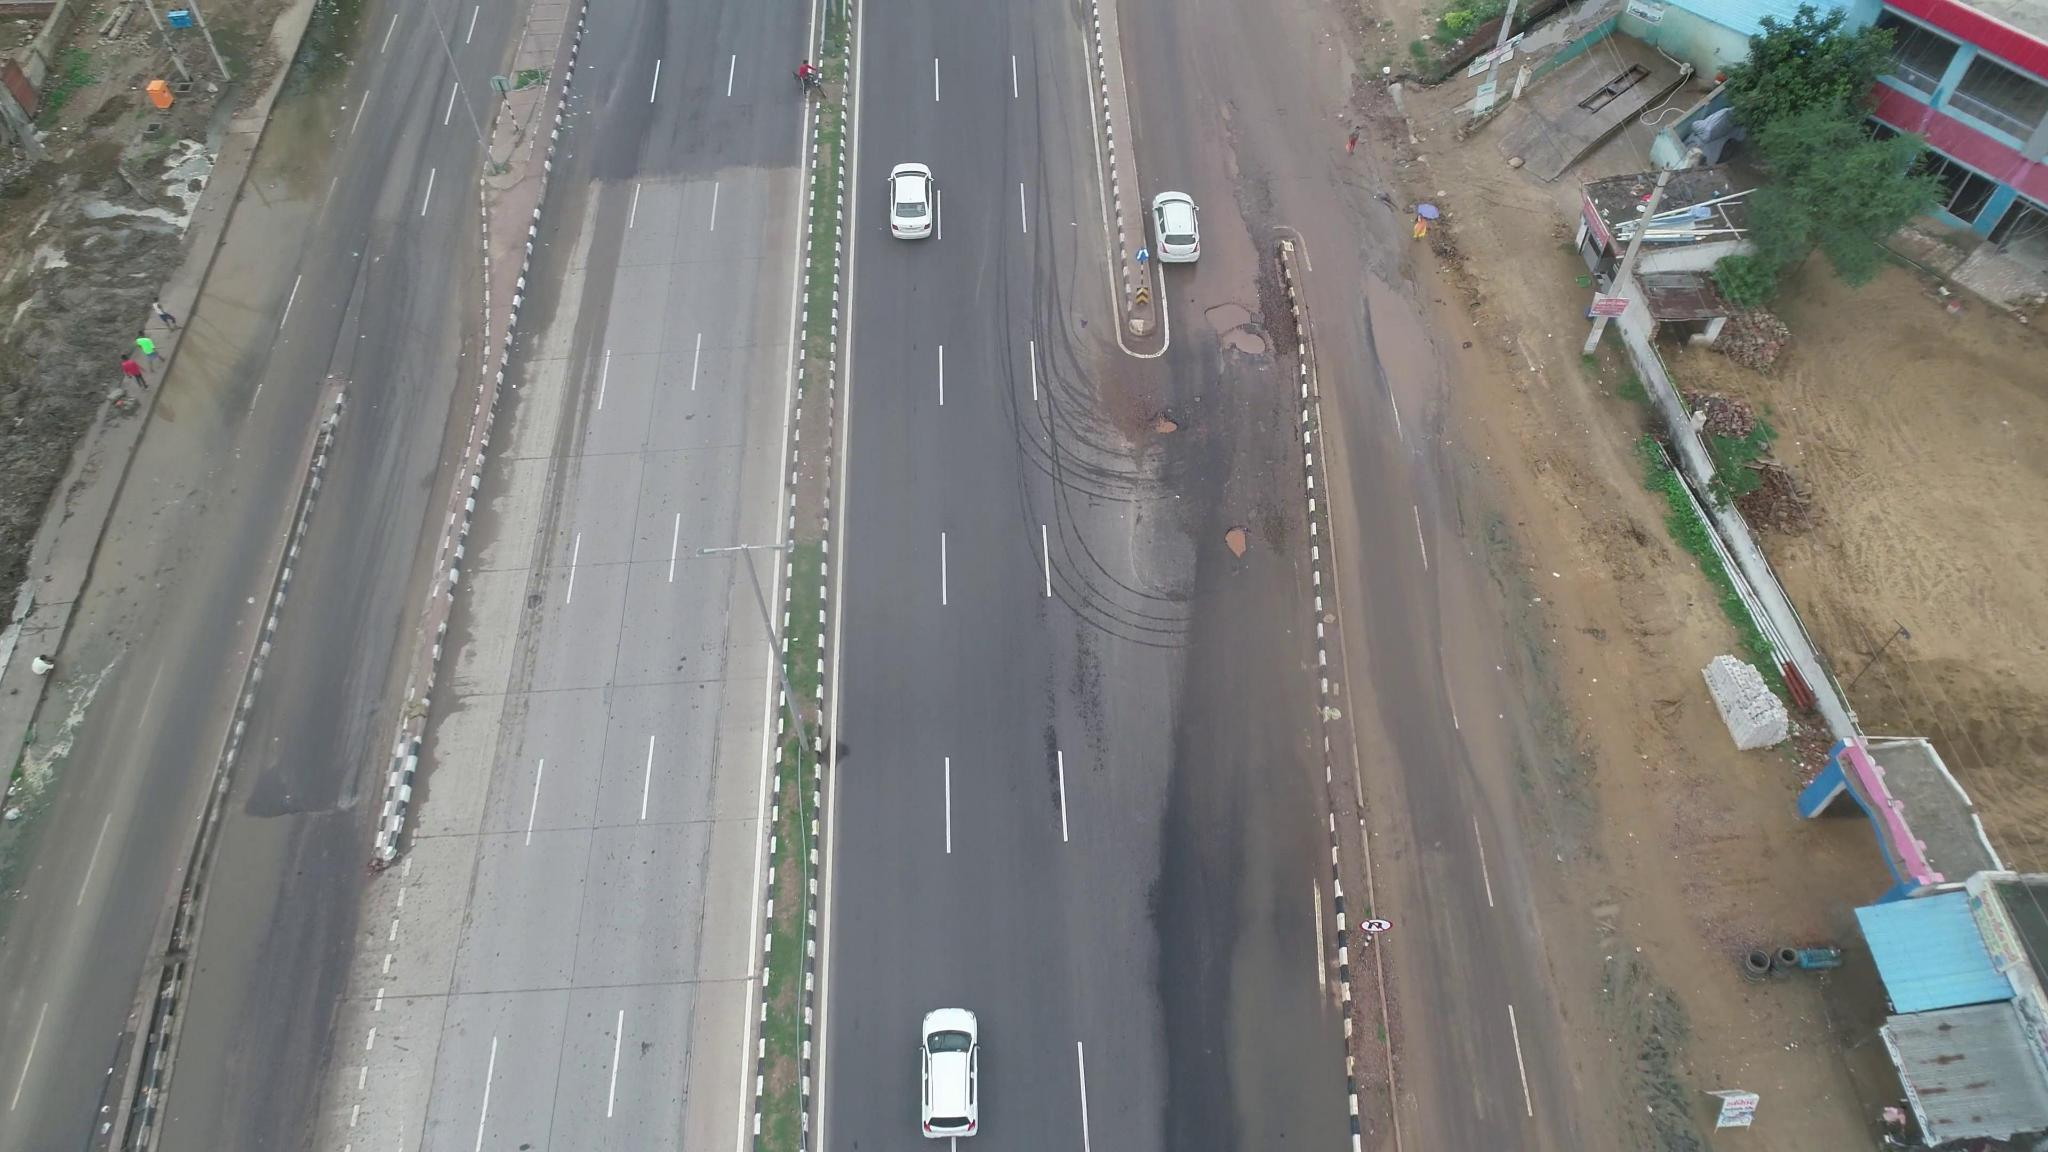Potholes: (1193, 286, 1288, 369), (1115, 394, 1208, 457), (1210, 495, 1257, 574)
Ravelling: (1065, 565, 1132, 754)
Waterlogging: (186, 779, 342, 1121), (1356, 255, 1423, 418)
